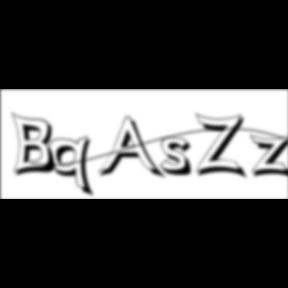A: (98, 116, 168, 182)
B: (12, 111, 62, 179)
Z: (196, 112, 251, 181)
q: (49, 135, 98, 200)
s: (160, 137, 200, 179)
